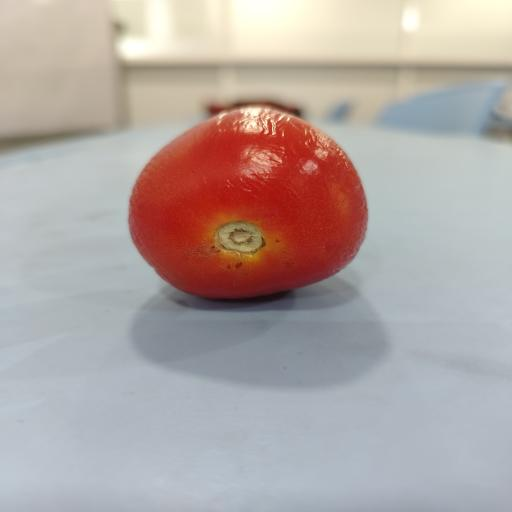spoiled: (129, 106, 367, 298)
